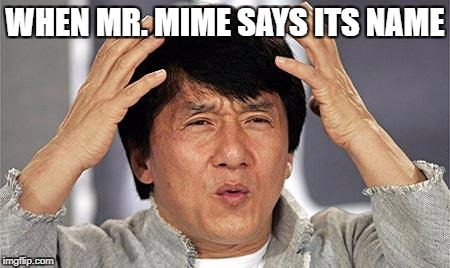confused: (165, 92, 283, 241)
